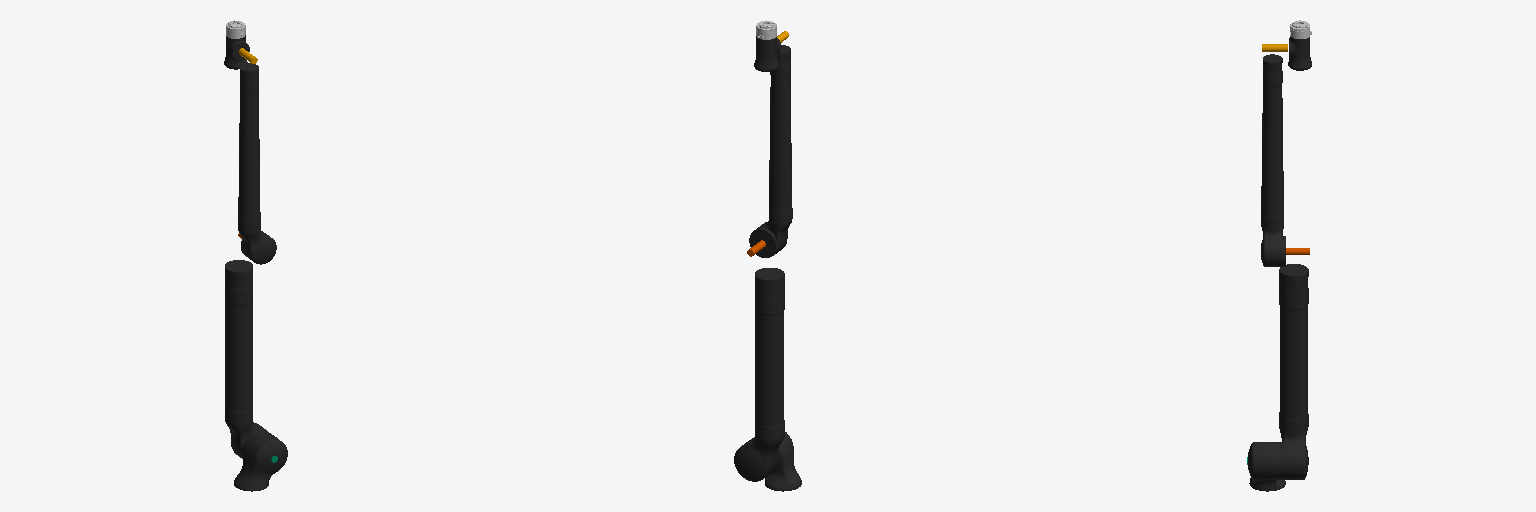
The robot description file, URDF, robot "kr2_robot_a1805":
<?xml version="1.0" ?>
<!-- =================================================================================== -->
<!-- |    This document was autogenerated by xacro from src/kr2_robot_S00V0000M1805.xacro | -->
<!-- |    EDITING THIS FILE BY HAND IS NOT RECOMMENDED                                 | -->
<!-- =================================================================================== -->
<robot features="TIO" mechanical-revision="1" model="a1805" model-revision="170524-0" name="kr2_robot_a1805">
  <ruid>0</ruid>
  <!-- links -->
  <link name="base">
    <inertial>
      <origin rpy="0 0 0" xyz="0 0 0.1365"/>
      <mass value="8.2"/>
      <inertia ixx="0.003" ixy="0.0" ixz="0.0" iyy="0.003" iyz="0.0" izz="0.003"/>
    </inertial>
    <visual>
      <origin rpy="0 0 0" xyz="0 0 0"/>
      <geometry>
        <mesh filename="package://ros2_description/meshes/a1805/a1805_Base.stl" scale="0.001 0.001 0.001"/>
      </geometry>
      <material name="">
        <color rgba="0.2 0.2 0.2 1"/>
      </material>
    </visual>
  </link>
  <link name="link1">
    <inertial>
      <origin rpy="1.5707963267948966 0 0" xyz="0.062 0 0.32210000000000005"/>
      <mass value="10.2"/>
      <inertia ixx="0.003" ixy="0.0" ixz="0.0" iyy="0.003" iyz="0.0" izz="0.003"/>
    </inertial>
    <visual>
      <origin rpy="0 0 0" xyz="0.062 0 0.322"/>
      <geometry>
        <mesh filename="package://ros2_description/meshes/a1805/a1805_Link2.stl" scale="0.001 0.001 0.001"/>
      </geometry>
      <material name="">
        <color rgba="0.2 0.2 0.2 1"/>
      </material>
    </visual>
  </link>
  <link name="linkJ2">
    <visual>
      <origin rpy="1.5707963267948966 0 0" xyz="0 -0.006 0"/>
      <geometry>
        <cylinder length="0.15" radius="0.015"/>
      </geometry>
      <material name="orange"/>
    </visual>
    <inertial>
      <origin rpy="0 0 0" xyz="-0.062 0.1052 0.39430000000000004"/>
      <mass value="2.2"/>
      <inertia ixx="0.003" ixy="0.0" ixz="0.0" iyy="0.003" iyz="0.0" izz="0.003"/>
    </inertial>
  </link>
  <link name="link2">
    <inertial>
      <origin rpy="0 0 0" xyz="0 0 0.73961"/>
      <mass value="4.7"/>
      <inertia ixx="0.003" ixy="0.0" ixz="0.0" iyy="0.003" iyz="0.0" izz="0.003"/>
    </inertial>
    <visual>
      <origin rpy="0 0 0" xyz="0 0.00 0.17"/>
      <geometry>
        <mesh filename="package://ros2_description/meshes/a1805/a1805_Link3.stl" scale="0.001 0.001 0.001"/>
      </geometry>
      <material name="">
        <color rgba="0.2 0.2 0.2 1"/>
      </material>
    </visual>
  </link>
  <link name="link3">
    <inertial>
      <origin rpy="-1.5707963267948966 0 0" xyz="0.05 0 0.18289"/>
      <mass value="5.78"/>
      <inertia ixx="0.003" ixy="0.0" ixz="0.0" iyy="0.003" iyz="0.0" izz="0.003"/>
    </inertial>
    <visual>
      <origin rpy="0 0 0" xyz="0.05 0 0.1829"/>
      <geometry>
        <mesh filename="package://ros2_description/meshes/a1805/a1805_Link4.stl" scale="0.001 0.001 0.001"/>
      </geometry>
      <material name="">
        <color rgba="0.2 0.2 0.2 1"/>
      </material>
    </visual>
  </link>
  <link name="linkJ4">
    <visual>
      <origin rpy="1.5707963267948966 0 0" xyz="0 0.005 0"/>
      <geometry>
        <cylinder length="0.12" radius="0.015"/>
      </geometry>
      <material name="orange"/>
    </visual>
    <inertial>
      <origin rpy="0 0 0" xyz="-0.05 -0.0857 0.3737"/>
      <mass value="2.0"/>
      <inertia ixx="0.003" ixy="0.0" ixz="0.0" iyy="0.003" iyz="0.0" izz="0.003"/>
    </inertial>
  </link>
  <link name="link4">
    <inertial>
      <origin rpy="0 0 0" xyz="0 0 0.7776000000000001"/>
      <mass value="1.5"/>
      <inertia ixx="0.003" ixy="0.0" ixz="0.0" iyy="0.003" iyz="0.0" izz="0.003"/>
    </inertial>
    <visual>
      <origin rpy="3.1415926535 1.570796326795 0" xyz="0.126 0.0535 0.831"/>
      <geometry>
        <mesh filename="package://ros2_description/meshes/a1805/a1805_Link5.stl" scale="0.001 0.001 0.001"/>
      </geometry>
      <material name="">
        <color rgba="0.2 0.2 0.2 1"/>
      </material>
    </visual>
  </link>
  <link name="link5">
    <inertial>
      <origin rpy="1.5707963267948966 0 0" xyz="0 0 0.0999"/>
      <mass value="1.7"/>
      <inertia ixx="0.003" ixy="0.0" ixz="0.0" iyy="0.003" iyz="0.0" izz="0.003"/>
    </inertial>
    <visual>
      <origin rpy="0 0 0" xyz="0 0.002 0.1"/>
      <geometry>
        <mesh filename="package://ros2_description/meshes/a1805/a1805_Link6.stl" scale="0.001 0.001 0.001"/>
      </geometry>
      <material name="">
        <color rgba="0.2 0.2 0.2 1"/>
      </material>
    </visual>
  </link>
  <link name="linkJ6">
    <visual>
      <origin rpy="1.5707963267948966 0 0" xyz="0 0.01 0"/>
      <geometry>
        <cylinder length="0.105" radius="0.015"/>
      </geometry>
      <material name="orange"/>
    </visual>
    <inertial>
      <origin rpy="0 0 0" xyz="0 0 0"/>
      <mass value="0.0"/>
      <inertia ixx="0.003" ixy="0.0" ixz="0.0" iyy="0.003" iyz="0.0" izz="0.003"/>
    </inertial>
  </link>
  <link name="link6">
    <inertial>
      <origin rpy="0 0 0" xyz="0 0 0"/>
      <mass value="1.76"/>
      <inertia ixx="0.003" ixy="0.0" ixz="0.0" iyy="0.003" iyz="0.0" izz="0.003"/>
    </inertial>
    <visual>
      <origin rpy="0 0 0" xyz="0 0 0.002"/>
      <geometry>
        <mesh filename="package://ros2_description/meshes/a1805/a1805_Link7.stl" scale="0.001 0.001 0.001"/>
      </geometry>
      <material name="">
        <color rgba="0.2 0.2 0.2 1"/>
      </material>
    </visual>
  </link>
  <link name="end_effector">
    <visual>
      <origin rpy="0 0 0" xyz="0 0 -0.1051"/>
      <geometry>
        <mesh filename="package://ros2_description/meshes/a1805/a1805_ToolIO.stl" scale="0.001 0.001 0.001"/>
      </geometry>
      <material name="">
        <color rgba="0.8 0.8 0.8 1"/>
      </material>
    </visual>
    <inertial>
      <origin rpy="0 0 0" xyz="0 0 -0.021"/>
      <mass value="0.33"/>
      <inertia ixx="0.003" ixy="0.0" ixz="0.0" iyy="0.003" iyz="0.0" izz="0.003"/>
    </inertial>
  </link>
  <!-- joints -->
  <joint name="joint0" type="continuous">
    <parent link="base"/>
    <child link="link1"/>
    <origin rpy="0.0 -0.0 0.0" xyz="0 0 0.035"/>
    <axis xyz="0 0 1"/>
    <dynamics damping="1.0"/>
    <limit effort="500" lower="-6.283185307179586" upper="6.283185307179586" velocity="2.8361600344907854"/>
  </joint>
  <joint name="joint1" type="continuous">
    <parent link="link1"/>
    <child link="linkJ2"/>
    <origin rpy="0.0 0.0 0.0" xyz="0.062 0.0 0.3222"/>
    <axis xyz="0 1 0"/>
    <dynamics damping="1.0"/>
    <limit effort="500" lower="-1.2217304763960306" upper="3.141592653589793" velocity="2.8361600344907854"/>
  </joint>
  <joint name="jointPL2" type="fixed">
    <parent link="linkJ2"/>
    <child link="link2"/>
    <origin rpy="0.0 -0.0 0.0" xyz="-0.062 0.1052 0"/>
  </joint>
  <joint name="joint2" type="continuous">
    <parent link="link2"/>
    <child link="link3"/>
    <origin rpy="0 0 0" xyz="0 0 0.73961"/>
    <axis xyz="0 0 1"/>
    <dynamics damping="1.0"/>
    <limit effort="204" lower="-6.283185307179586" upper="6.283185307179586" velocity="3.9269908169872414"/>
  </joint>
  <joint name="joint3" type="continuous">
    <parent link="link3"/>
    <child link="linkJ4"/>
    <origin rpy="0.0 0.0 0.0" xyz="0.05 0.0 0.18289"/>
    <axis xyz="0 1 0"/>
    <dynamics damping="1.0"/>
    <limit effort="204" lower="-1.2217304763960306" upper="3.141592653589793" velocity="3.9269908169872414"/>
  </joint>
  <joint name="jointPL4" type="fixed">
    <parent link="linkJ4"/>
    <child link="link4"/>
    <origin rpy="0.0 -0.0 0.0" xyz="-0.05 -0.0857 0.0"/>
  </joint>
  <joint name="joint4" type="continuous">
    <parent link="link4"/>
    <child link="link5"/>
    <origin rpy="0 0 0" xyz="0 0 0.7776"/>
    <axis xyz="0 0 1"/>
    <dynamics damping="1.0"/>
    <limit effort="80" lower="-6.283185307179586" upper="6.283185307179586" velocity="3.9269908169872414"/>
  </joint>
  <joint name="joint5" type="continuous">
    <parent link="link5"/>
    <child link="linkJ6"/>
    <origin rpy="0.0 0.0 0.0" xyz="0.0 0 0.0999"/>
    <axis xyz="0 1 0"/>
    <dynamics damping="1.0"/>
    <limit effort="80" lower="-6.283185307179586" upper="6.283185307179586" velocity="3.9269908169872414"/>
  </joint>
  <joint name="jointPL6" type="fixed">
    <parent link="linkJ6"/>
    <child link="link6"/>
    <origin rpy="0.0 0.0 0.0" xyz="0.0 0.111 0"/>
  </joint>
  <joint name="joint6" type="continuous">
    <parent link="link6"/>
    <child link="end_effector"/>
    <origin rpy="0 0 0" xyz="0 0 0.108"/>
    <axis xyz="0 0 1"/>
    <dynamics damping="1.0"/>
    <limit effort="80" lower="-6.283185307179586" upper="6.283185307179586" velocity="3.9269908169872414"/>
  </joint>
</robot>

--- What the picture shows (computed from the rendered views, not written in the file) ---
The picture shows the robot from 3 angles, left to right: view 1: azimuth 30°, elevation 25°; view 2: azimuth 150°, elevation 25°; view 3: azimuth 270°, elevation 25°; orthographic projection.
Model kr2_robot_a1805 with 11 links and 10 joints (7 continuous, 3 fixed), rooted at base, posed every joint at zero.
Visible links, largest first — view 1: link2, link4, link1, link6; view 2: link2, link4, link1, link6; view 3: link2, link4, link1, link6.
Link boxes in pixels (x1,y1,x2,y2): link2: (225, 260, 268, 458); link4: (238, 63, 276, 264); link1: (234, 432, 287, 491); link6: (224, 35, 249, 69); link2: (734, 268, 784, 481); link4: (749, 45, 792, 257); link1: (752, 432, 801, 491); link6: (754, 36, 780, 71); link2: (1278, 264, 1308, 479); link4: (1261, 54, 1285, 266); link1: (1248, 442, 1285, 491); link6: (1288, 36, 1311, 70).
Bounding box of the posed robot: 0.2125 × 0.261 × 2.04 m (x, y, z).
Meshes: 8 distinct files referenced, 5 mesh visuals loaded (5 binary STL); not drawn: 3 (reference not matched to a file when rendering).
